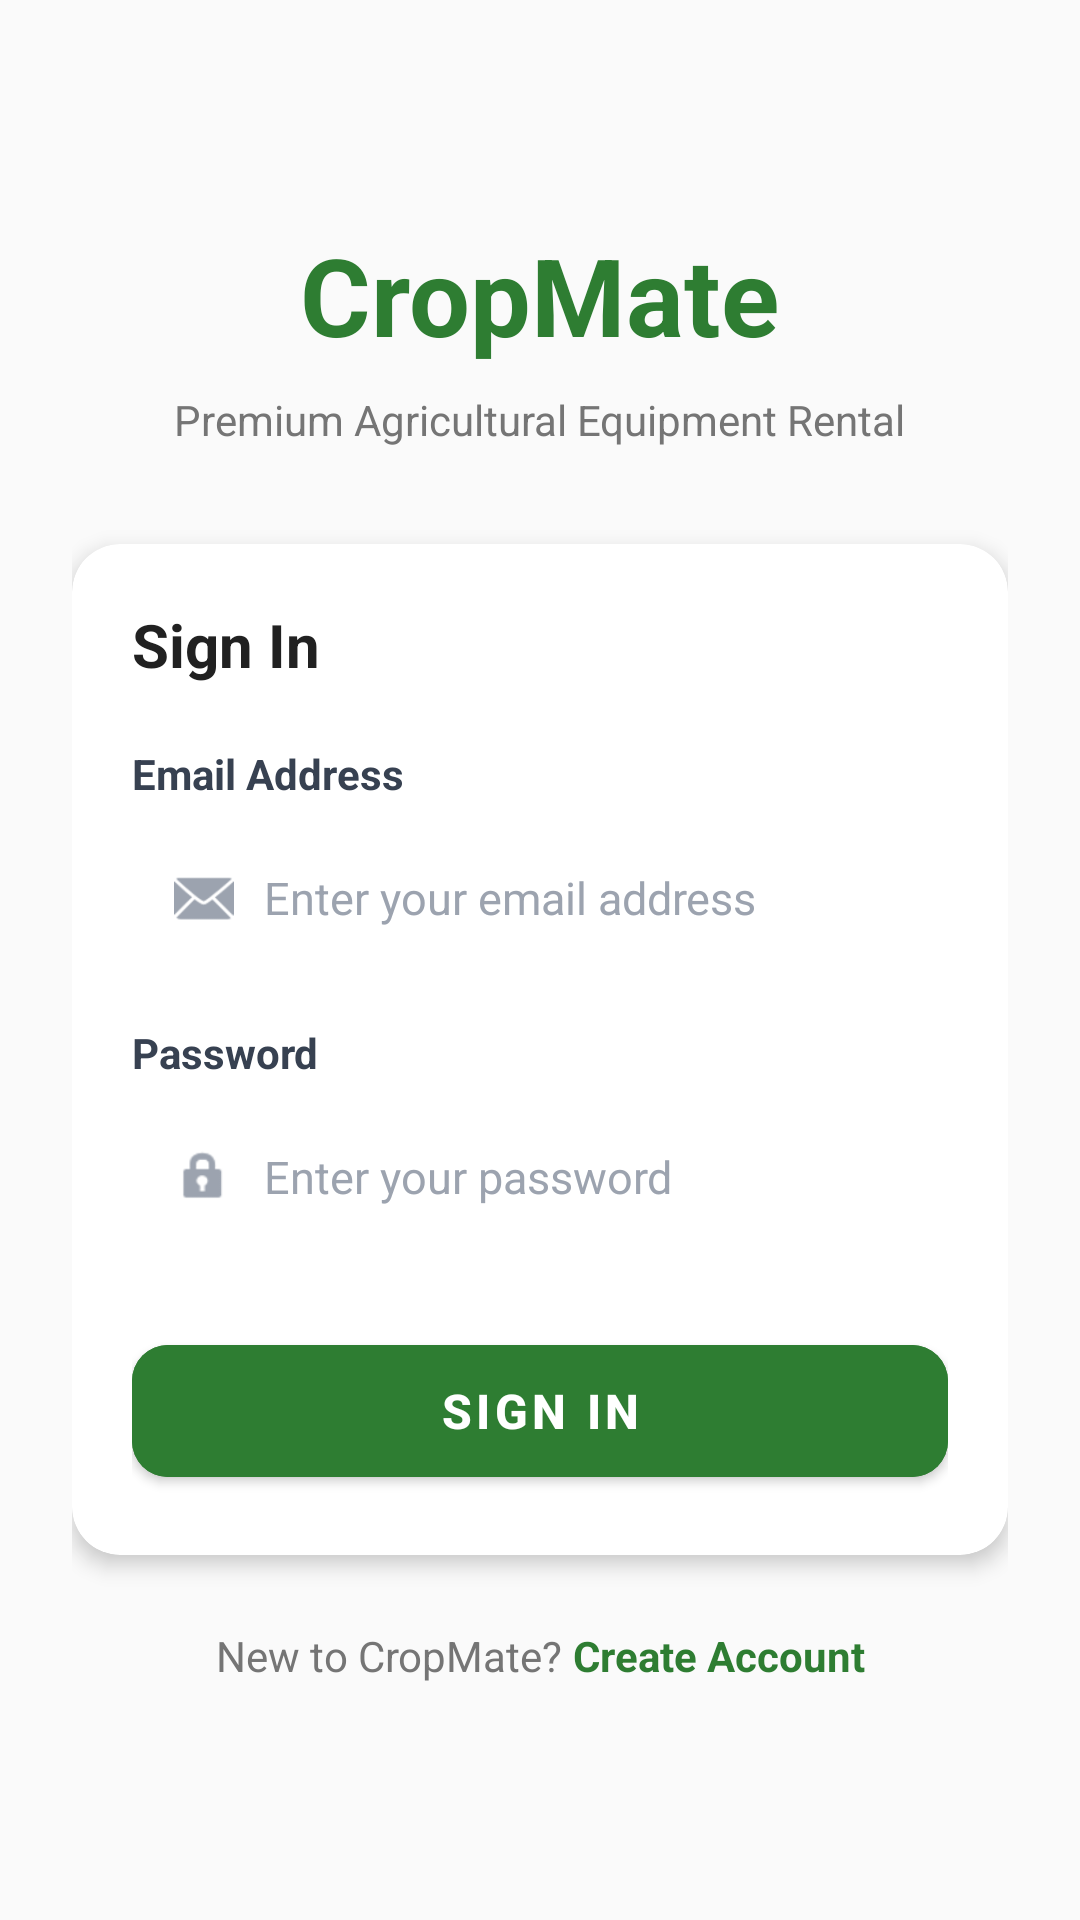

Icon click points for this 1080*1920 phone screenshot, format [x,y]:
lock idle: [202,1175]
